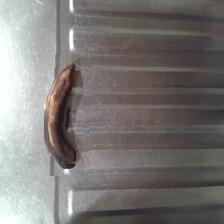Banana Rotten: (45, 54, 94, 176)
